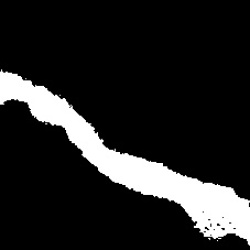crack: (0, 71, 243, 239)
